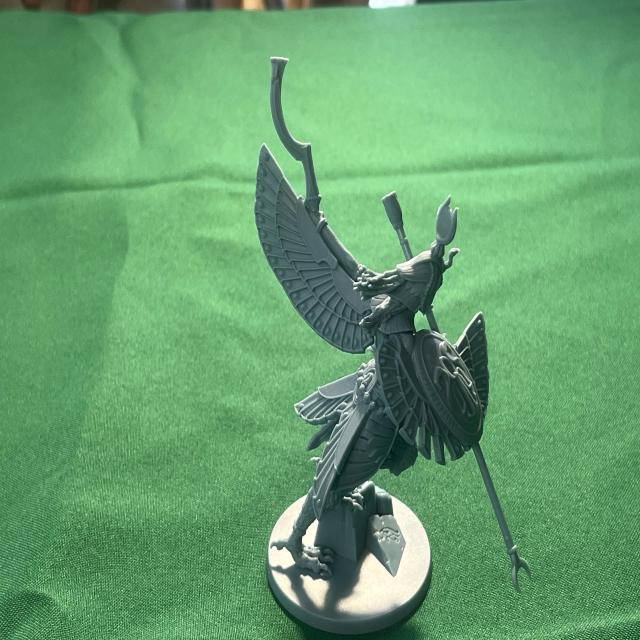isis: (241, 50, 543, 640)
